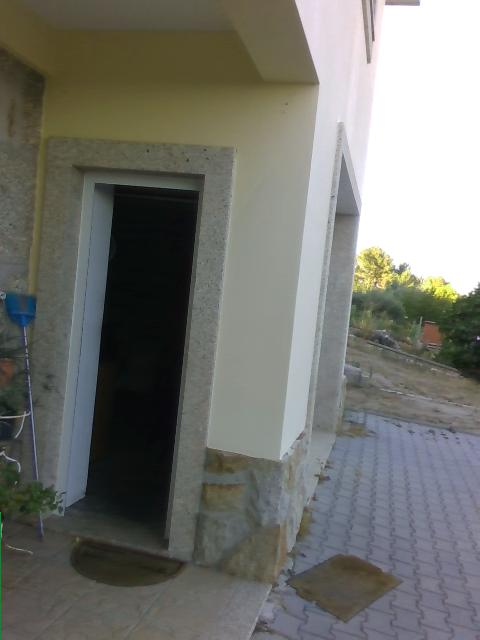open_door: (51, 164, 205, 557)
